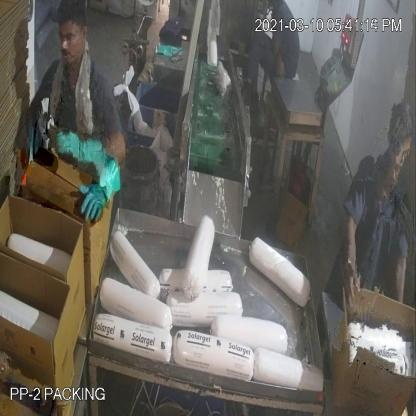glove: (74, 150, 126, 223)
no_glove: (339, 204, 365, 314)
